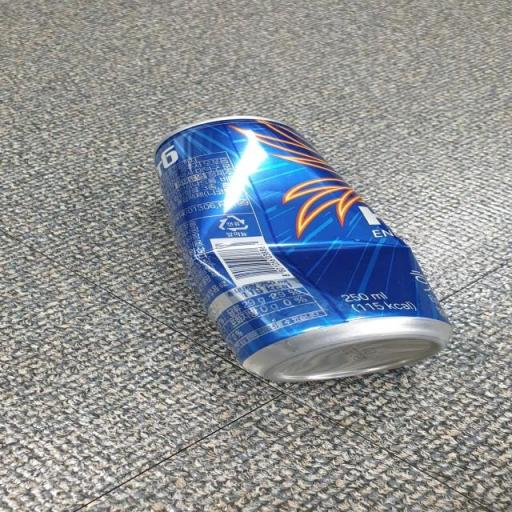metal: (129, 101, 477, 416)
